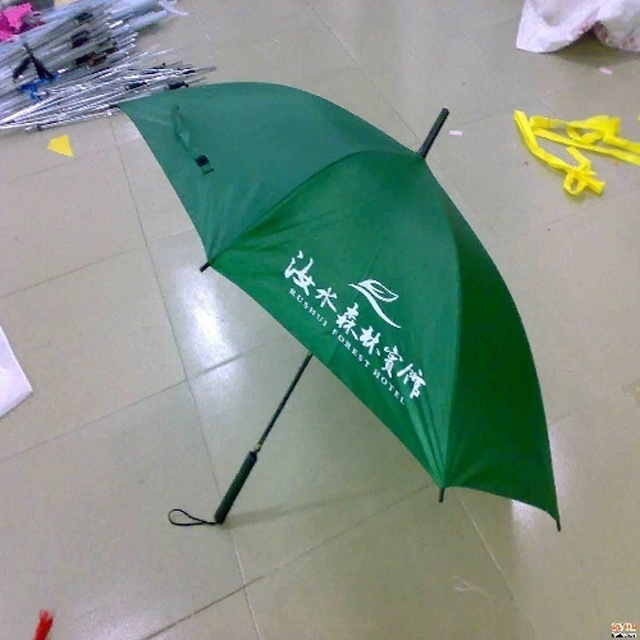umbrella: (112, 78, 564, 540)
